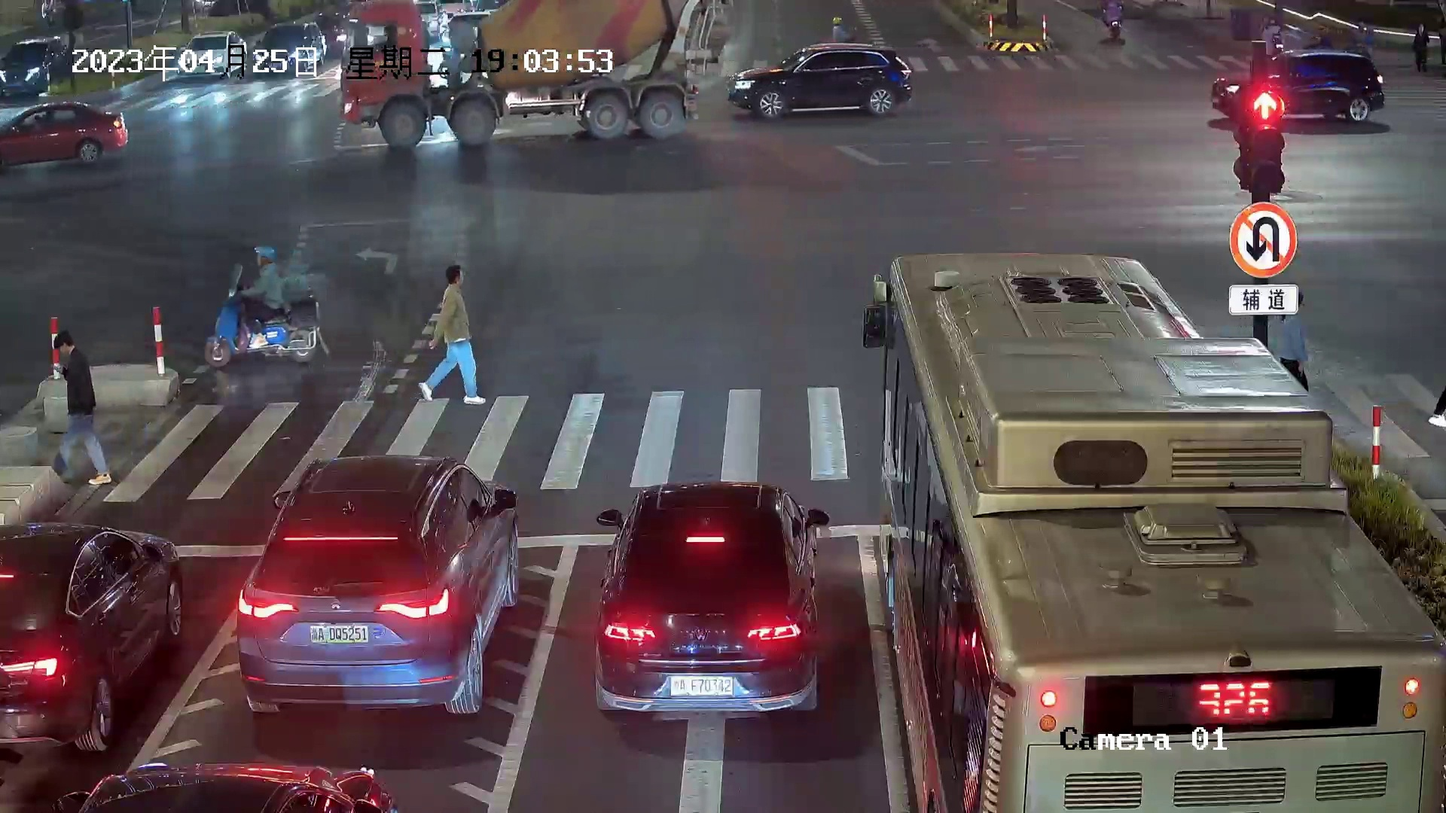person: (44, 327, 115, 488), (421, 260, 488, 409), (240, 239, 285, 351)
vehicle: (860, 245, 1431, 813), (236, 452, 517, 725), (336, 2, 715, 154), (590, 478, 827, 720), (1, 513, 194, 757), (726, 37, 912, 123), (1207, 45, 1390, 125), (203, 282, 328, 368), (2, 103, 140, 165), (0, 20, 77, 96)
